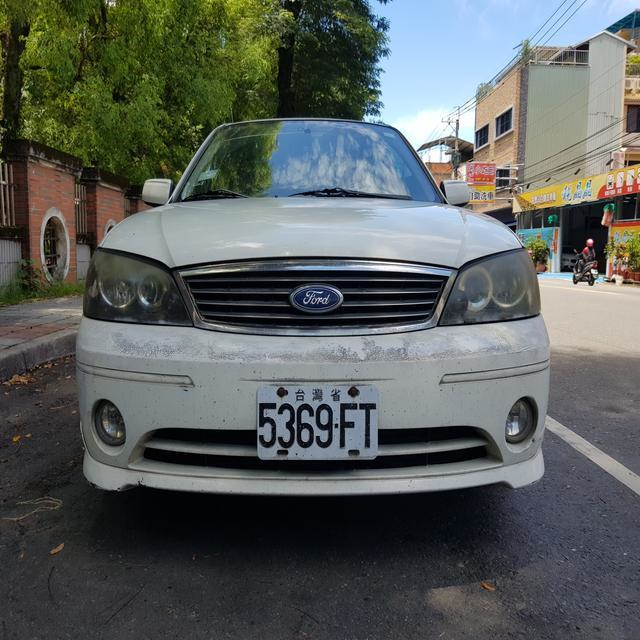license: (253, 387, 378, 459)
